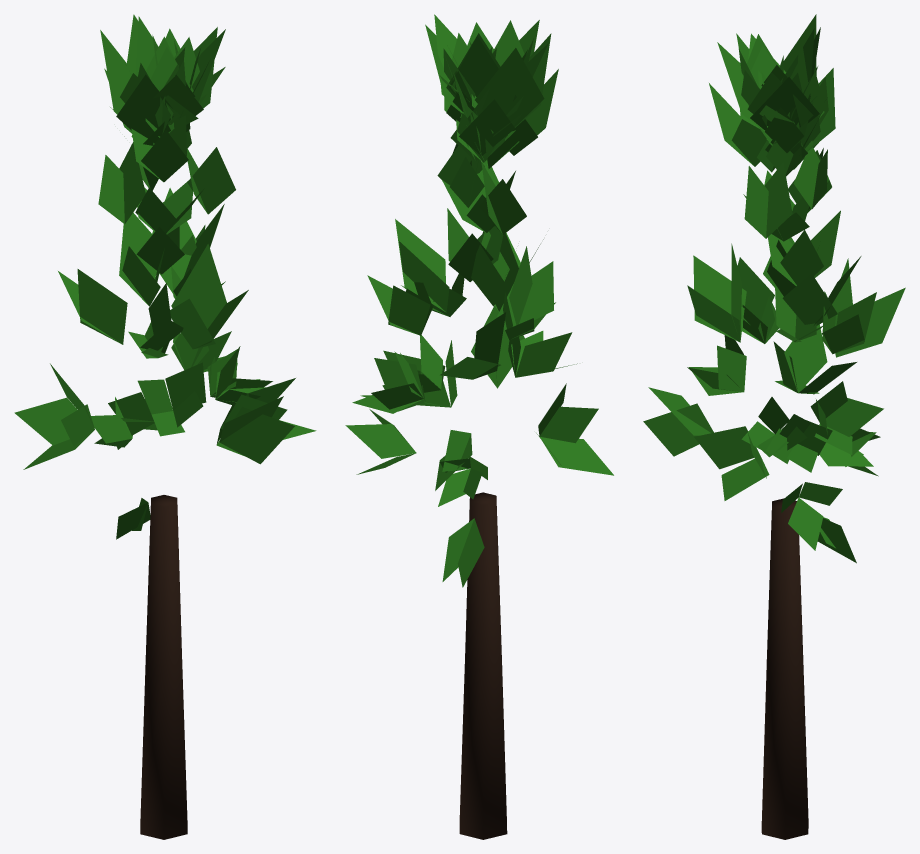
Rendered from Tree_05_B_LOD2.obj.
3 renders of one model, left to right at view 1: azimuth 30°, elevation 25°; view 2: azimuth 150°, elevation 25°; view 3: azimuth 270°, elevation 25°, orthographic.
Visible parts, largest first — view 1: Leaves, Trunk; view 2: Leaves, Trunk; view 3: Leaves, Trunk.
Boxes of the visible parts, x1,y1,x2,y2 form: Leaves: (14,14,316,539); Trunk: (140,495,187,839); Leaves: (345,14,613,587); Trunk: (459,492,507,839); Leaves: (643,14,905,563); Trunk: (761,498,808,839).
Bounding box in the file's own units: 2.47 × 7.37 × 2.2.
